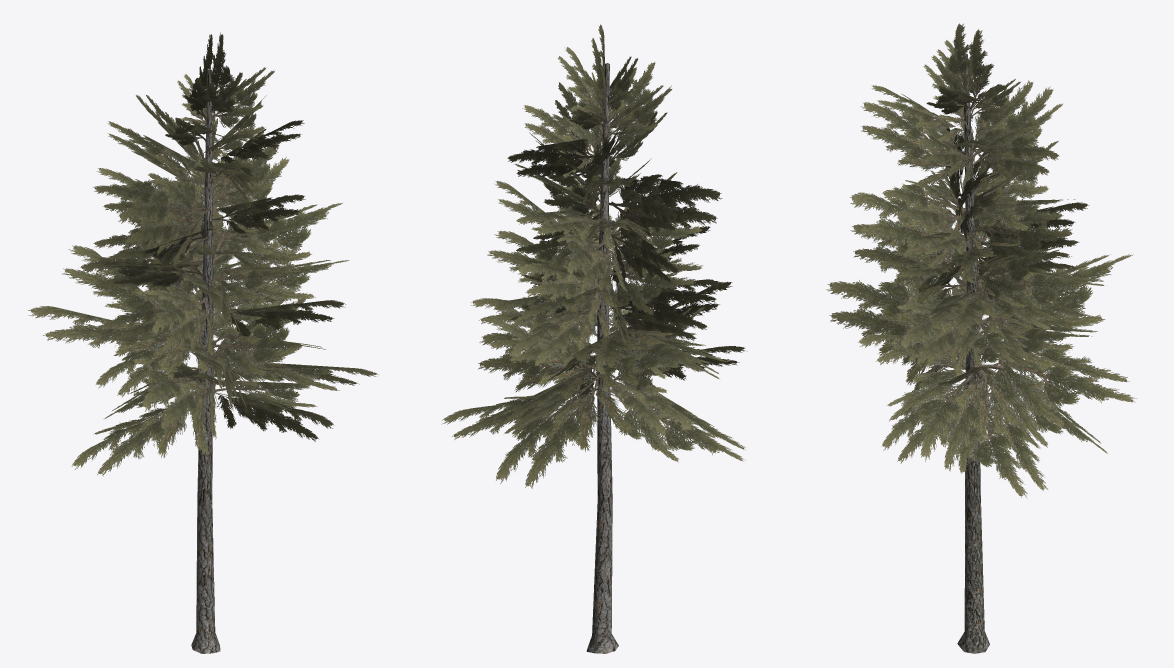
The model's file is pine_tree_low-poly.obj.
The picture shows the model from 3 angles, left to right: view 1: azimuth 30°, elevation 25°; view 2: azimuth 150°, elevation 25°; view 3: azimuth 270°, elevation 25°; orthographic projection.
Parts seen in each view (by area): view 1: Pine_s_1__Pine_s_1_Material_0; view 2: Pine_s_1__Pine_s_1_Material_0; view 3: Pine_s_1__Pine_s_1_Material_0.
Boxes of the visible parts, x1,y1,x2,y2 form: Pine_s_1__Pine_s_1_Material_0: (28, 32, 378, 653); Pine_s_1__Pine_s_1_Material_0: (441, 24, 747, 653); Pine_s_1__Pine_s_1_Material_0: (826, 23, 1136, 653).
Bounding box in the file's own units: 60.35 × 107 × 54.43.
Materials: 1 (1 with a texture image).
